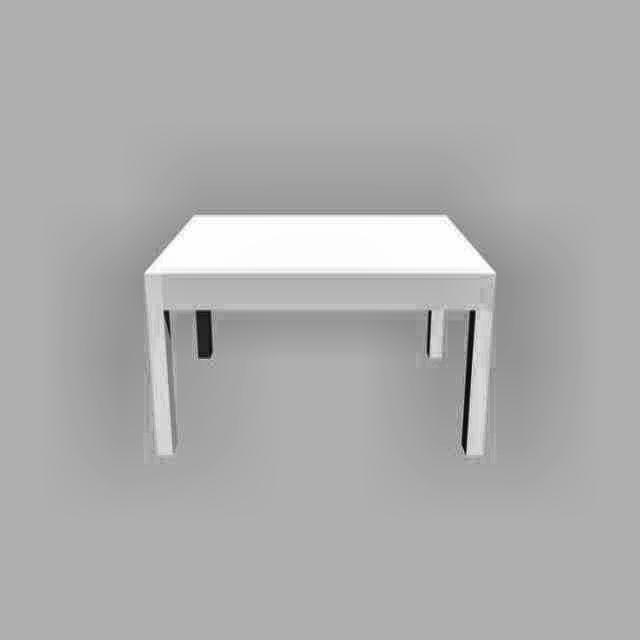mesa: (142, 215, 496, 458)
